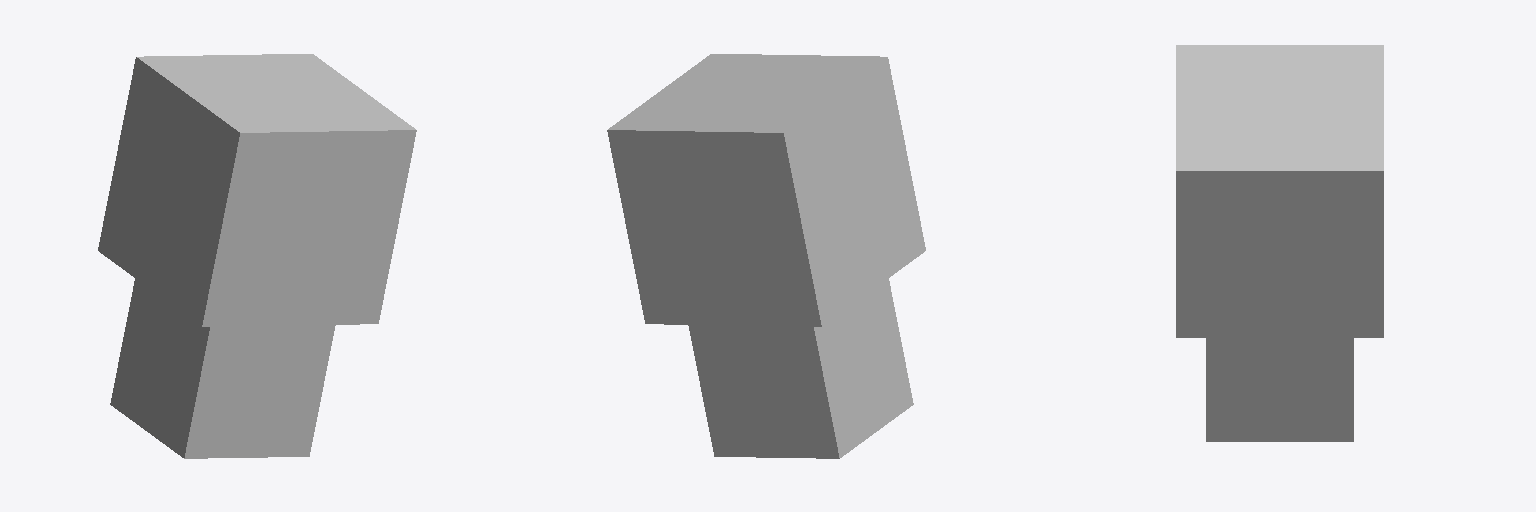
The model's file is L_ShoulderArmO.obj.
The picture shows the model from 3 angles: view 1: azimuth 30°, elevation 25°; view 2: azimuth 150°, elevation 25°; view 3: azimuth 270°, elevation 25°; orthographic projection.
Visible parts, largest first — view 1: pCube48; view 2: pCube48; view 3: pCube48.
Part boxes in pixels (x1,y1,x2,y2): pCube48: (98, 54, 416, 458); pCube48: (607, 54, 925, 458); pCube48: (1176, 45, 1383, 441).
Size of the model in its own units: 1.2 by 1.88 by 1.